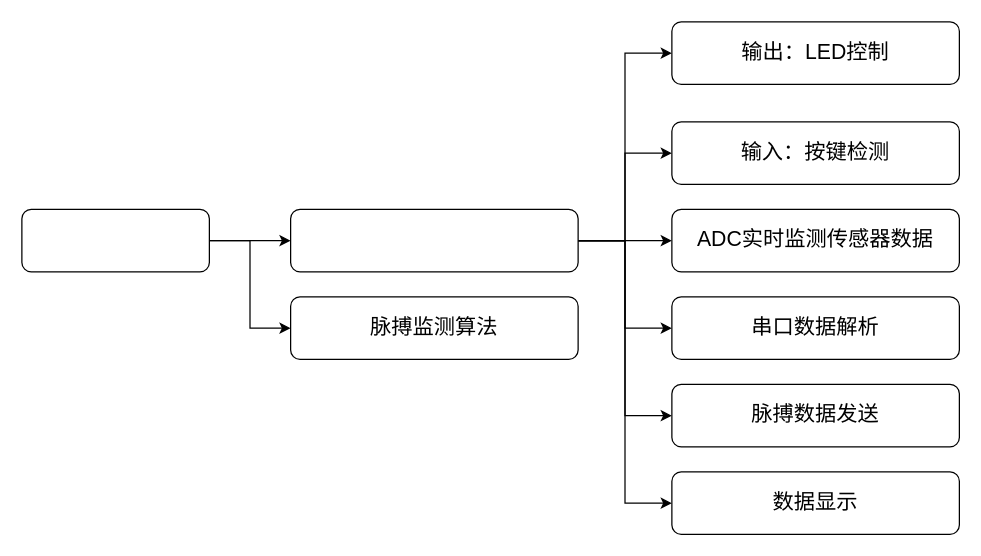
The diagram is 981 pixels wide and 556 high, and some of its shapes have lost their labels. Here are the shapes that lost their labels. From the top down, the box of each, then its label:
(21, 208, 209, 272): 心率监测
(289, 208, 578, 272): 时间片法 任务调度器
